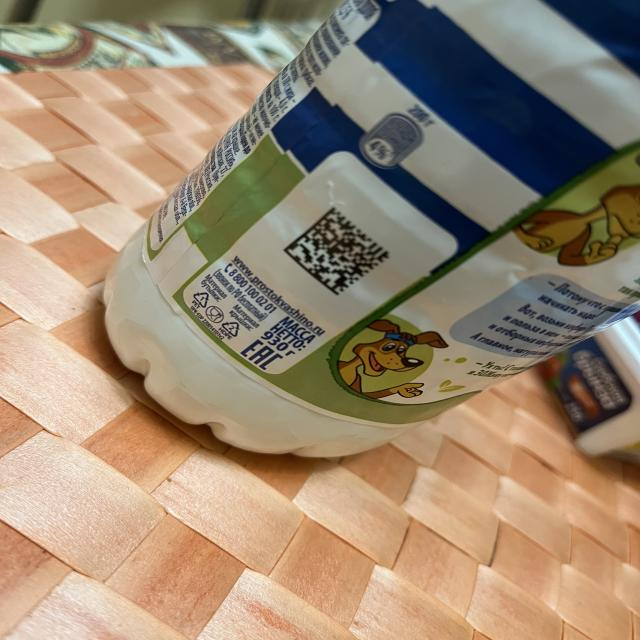datamatrix: (283, 208, 392, 298)
